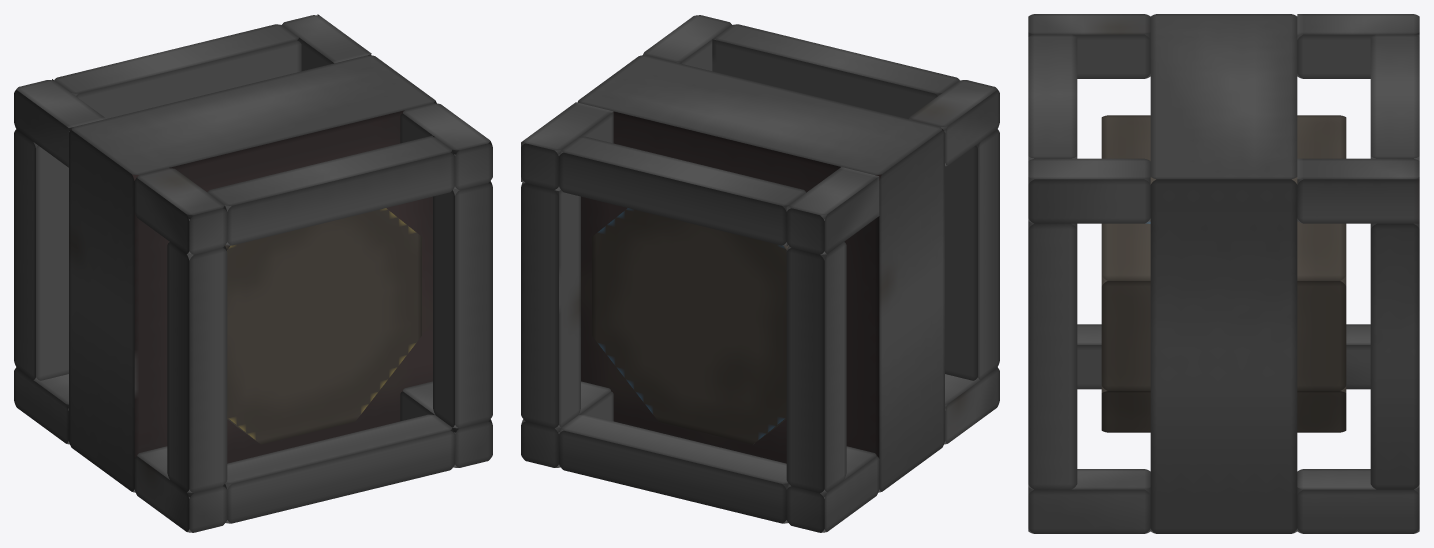
Rendered from bearing.obj.
3 renders of one model, left to right at view 1: azimuth 30°, elevation 25°; view 2: azimuth 150°, elevation 25°; view 3: azimuth 270°, elevation 25°, orthographic. The views are drawn at different scales.
Parts seen in each view (by area): view 1: mesh.006; view 2: mesh.006; view 3: mesh.006.
Boxes of the visible parts, x1,y1,x2,y2 form: mesh.006: (14,14,492,532); mesh.006: (521,15,999,532); mesh.006: (1028,14,1419,533).
Bounding box in the file's own units: 1 × 1 × 1.
